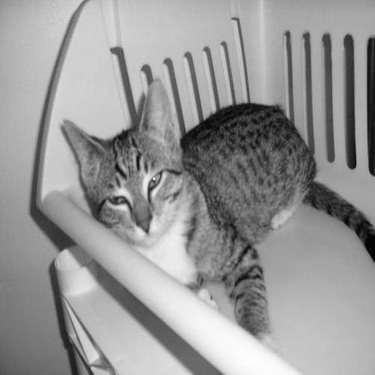cat: (55, 87, 365, 334)
